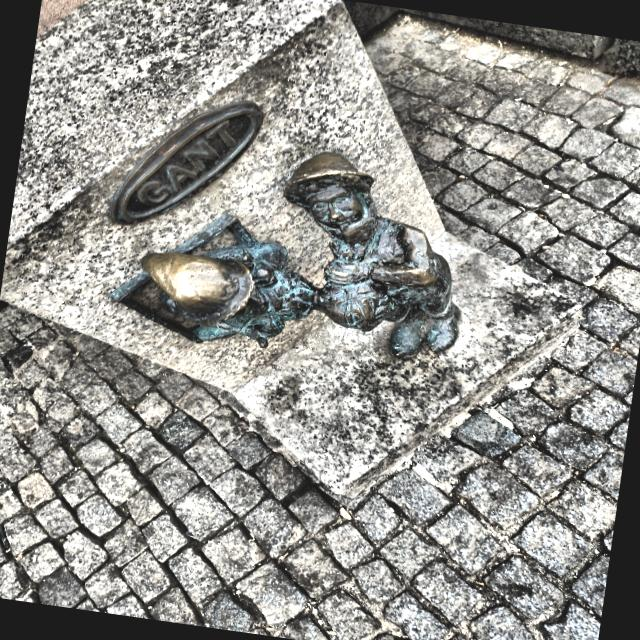Kantorki: (111, 153, 461, 358)
